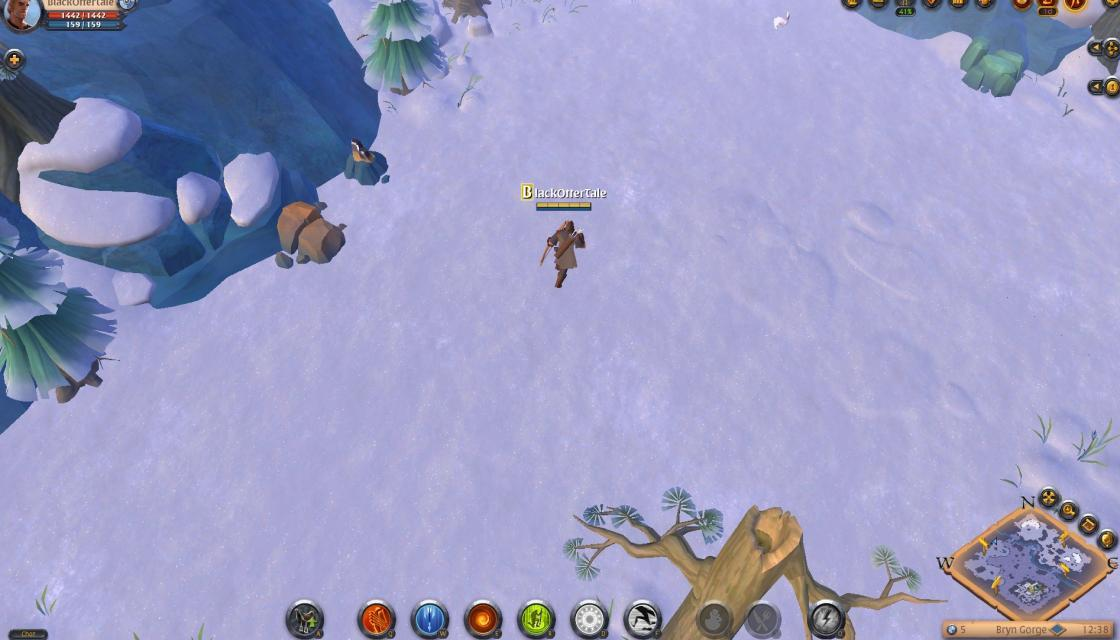copperore: (342, 134, 394, 190)
limestone: (271, 195, 348, 270)
sandstone: (956, 32, 1028, 102)
